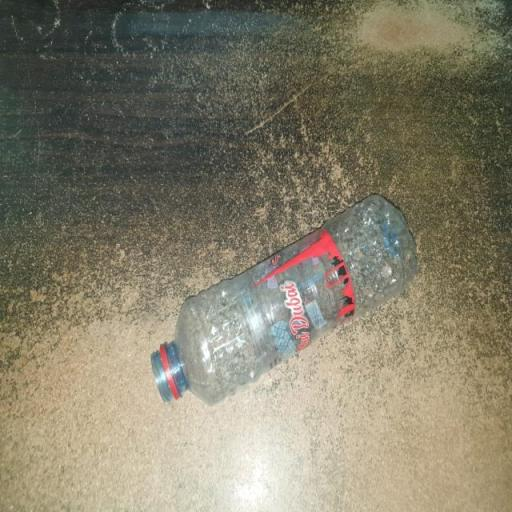plastic: (148, 192, 420, 424)
